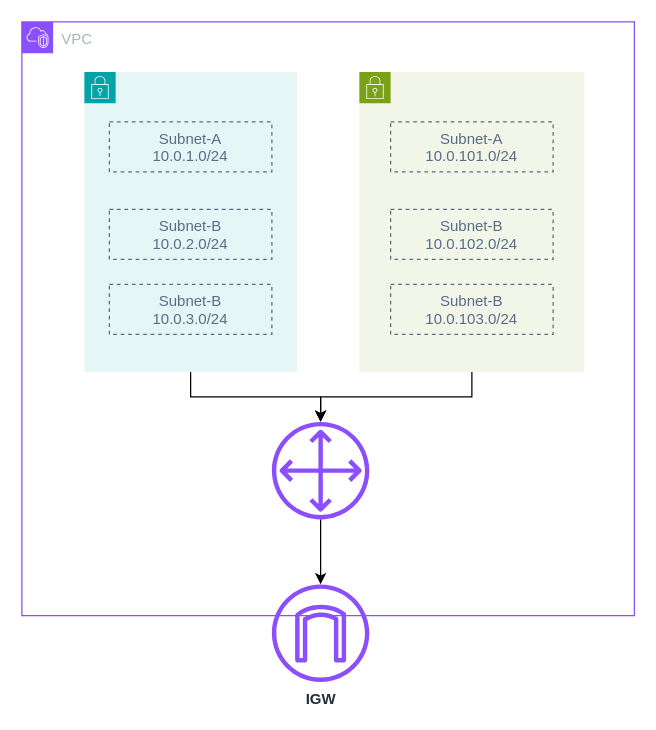
Image size: 656x730. Some labels were removed from this diagram. The box of each missing label's shape, as (x1, y1, x2, y2) in pixels:
Private subnet: (83, 71, 297, 372)
Public subnet: (358, 71, 584, 372)
ROUTER: (271, 421, 369, 519)
